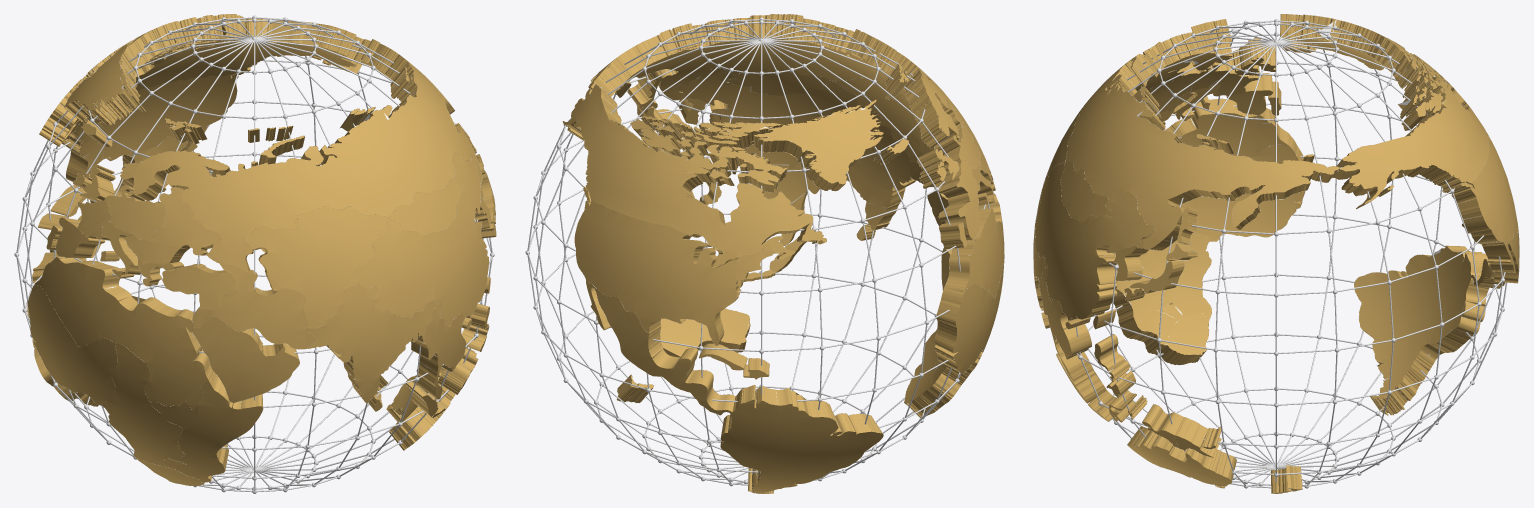
The model's file is countryGlobe.gltf.
3 renders of one model, left to right at view 1: azimuth 30°, elevation 25°; view 2: azimuth 150°, elevation 25°; view 3: azimuth 270°, elevation 25°, orthographic.
Parts seen in each view (by area): view 1: Plane.296, Sphere.002, Plane.215, Plane.219, Plane.301, Plane.205, Plane.204, Plane.201, Plane.299, Plane.298, Plane.212, Plane.210 (+21 smaller); view 2: Sphere.002, Plane.204, Plane.205, Plane.296, Plane.209, Plane.203, Plane.301, Plane.216, Plane.298, Plane.219, Plane.201, Plane.215 (+15 smaller); view 3: Sphere.002, Plane.296, Plane.209, Plane.301, Plane.204, Plane.205, Plane.215, Plane.298, Plane.300, Plane.210, Plane.299, Plane.203 (+19 smaller).
Part boxes in pixels (x1=…): Plane.296: x1=120, y1=39, x2=482, y2=271; Sphere.002: x1=14, y1=15, x2=494, y2=493; Plane.215: x1=34, y1=256, x2=213, y2=409; Plane.219: x1=244, y1=178, x2=463, y2=328; Plane.301: x1=353, y1=153, x2=488, y2=326; Plane.205: x1=61, y1=74, x2=238, y2=181; Plane.204: x1=52, y1=18, x2=363, y2=139; Plane.201: x1=304, y1=284, x2=438, y2=403; Plane.299: x1=151, y1=371, x2=263, y2=482; Plane.298: x1=27, y1=284, x2=117, y2=405; Plane.212: x1=192, y1=316, x2=299, y2=402; Plane.210: x1=102, y1=343, x2=185, y2=467; Sphere.002: x1=525, y1=17, x2=989, y2=486; Plane.204: x1=562, y1=84, x2=813, y2=265; Plane.205: x1=574, y1=200, x2=773, y2=345; Plane.296: x1=588, y1=15, x2=961, y2=148; Plane.209: x1=720, y1=385, x2=883, y2=493; Plane.203: x1=754, y1=99, x2=883, y2=191; Plane.301: x1=677, y1=67, x2=881, y2=168; Plane.216: x1=586, y1=281, x2=735, y2=415; Plane.298: x1=934, y1=264, x2=1003, y2=373; Plane.219: x1=724, y1=70, x2=921, y2=163; Plane.201: x1=846, y1=125, x2=923, y2=230; Plane.215: x1=944, y1=193, x2=1004, y2=298; Sphere.002: x1=1076, y1=19, x2=1507, y2=488; Plane.296: x1=1065, y1=32, x2=1339, y2=250; Plane.209: x1=1354, y1=245, x2=1489, y2=415; Plane.301: x1=1035, y1=161, x2=1155, y2=320; Plane.204: x1=1333, y1=71, x2=1489, y2=209; Plane.205: x1=1451, y1=133, x2=1519, y2=246; Plane.215: x1=1163, y1=98, x2=1290, y2=157; Plane.298: x1=1186, y1=136, x2=1305, y2=241; Plane.300: x1=1127, y1=426, x2=1236, y2=486; Plane.210: x1=1140, y1=202, x2=1211, y2=317; Plane.299: x1=1113, y1=249, x2=1182, y2=355; Plane.203: x1=1280, y1=14, x2=1404, y2=70.
Size of the model in its own units: 2.46 by 2.42 by 2.49.
